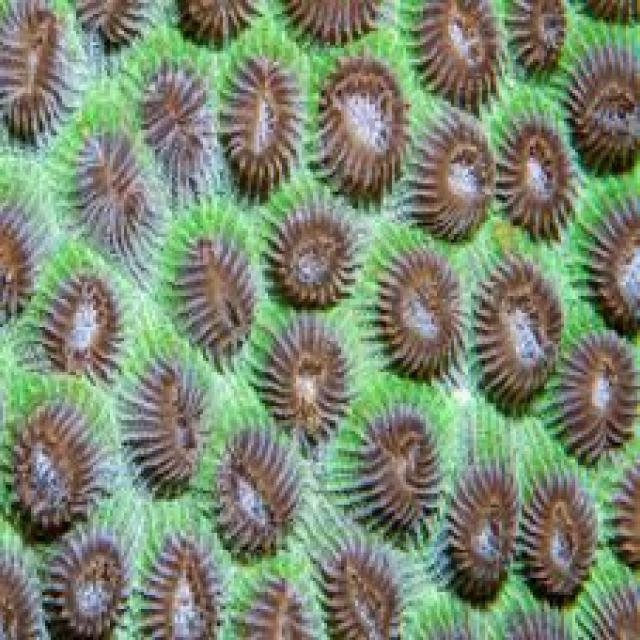Healthy: (311, 51, 409, 208), (352, 388, 444, 544), (475, 263, 567, 416), (5, 401, 101, 539), (62, 125, 156, 261), (373, 246, 463, 387), (402, 122, 502, 244), (405, 1, 508, 119), (169, 229, 259, 362), (441, 467, 523, 610), (517, 471, 600, 612), (215, 60, 299, 198), (137, 62, 218, 204), (127, 360, 208, 500), (261, 205, 363, 316), (211, 437, 304, 556), (493, 120, 577, 245), (3, 5, 74, 152), (556, 340, 638, 463), (261, 326, 348, 440), (41, 269, 122, 390), (570, 40, 640, 175), (137, 542, 223, 640), (317, 549, 408, 640), (46, 540, 127, 640), (588, 201, 640, 336), (271, 1, 394, 51), (502, 1, 574, 83), (163, 1, 265, 52), (67, 1, 161, 52), (1, 547, 51, 640), (235, 579, 311, 640), (3, 214, 35, 332), (607, 466, 640, 571), (585, 593, 639, 640), (574, 1, 640, 28)
